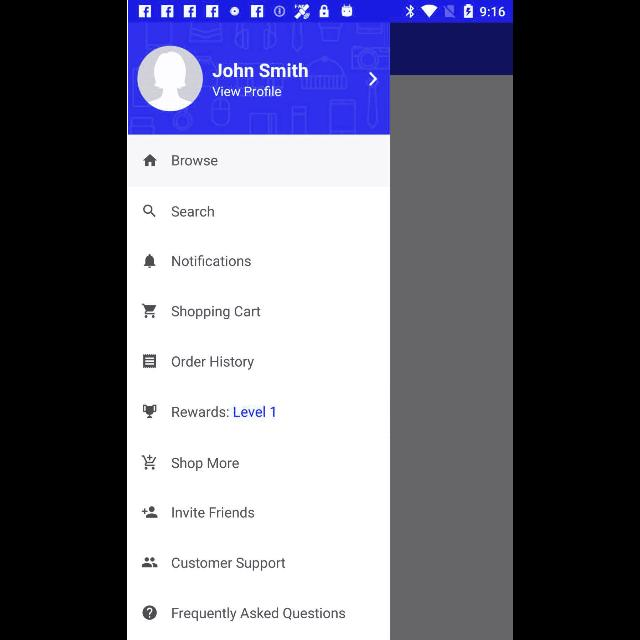icon: (137, 46, 203, 112), (140, 454, 156, 470), (140, 304, 156, 318), (142, 606, 156, 620), (142, 354, 156, 368), (141, 556, 157, 568), (141, 506, 157, 518), (143, 254, 155, 268), (142, 155, 156, 167), (143, 205, 155, 218), (368, 72, 378, 86)
image: (142, 404, 156, 418)
panel: (128, 22, 390, 640)
text: (172, 607, 346, 621), (212, 63, 308, 79), (171, 558, 285, 570), (170, 306, 260, 320), (172, 406, 274, 418), (170, 356, 254, 370), (172, 506, 255, 518), (171, 457, 239, 471), (172, 255, 250, 267), (211, 85, 281, 97), (171, 156, 217, 167), (170, 206, 213, 217)
uppertaskbar: (128, 1, 512, 23)
